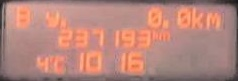-: (160, 18, 168, 28), (57, 18, 65, 26)
0: (84, 50, 101, 73), (175, 6, 191, 29), (146, 6, 162, 28)
1: (77, 51, 84, 72), (112, 28, 119, 47), (119, 51, 125, 71)
2: (56, 27, 71, 47)
3: (136, 28, 150, 48), (73, 28, 87, 47)
4: (35, 56, 48, 72)
6: (126, 50, 143, 72)
7: (90, 28, 103, 47)
9: (119, 28, 135, 47)
X: (15, 4, 31, 27), (189, 6, 203, 29), (43, 10, 58, 28), (204, 11, 219, 28), (52, 55, 65, 72), (158, 30, 169, 41), (150, 30, 158, 41)
